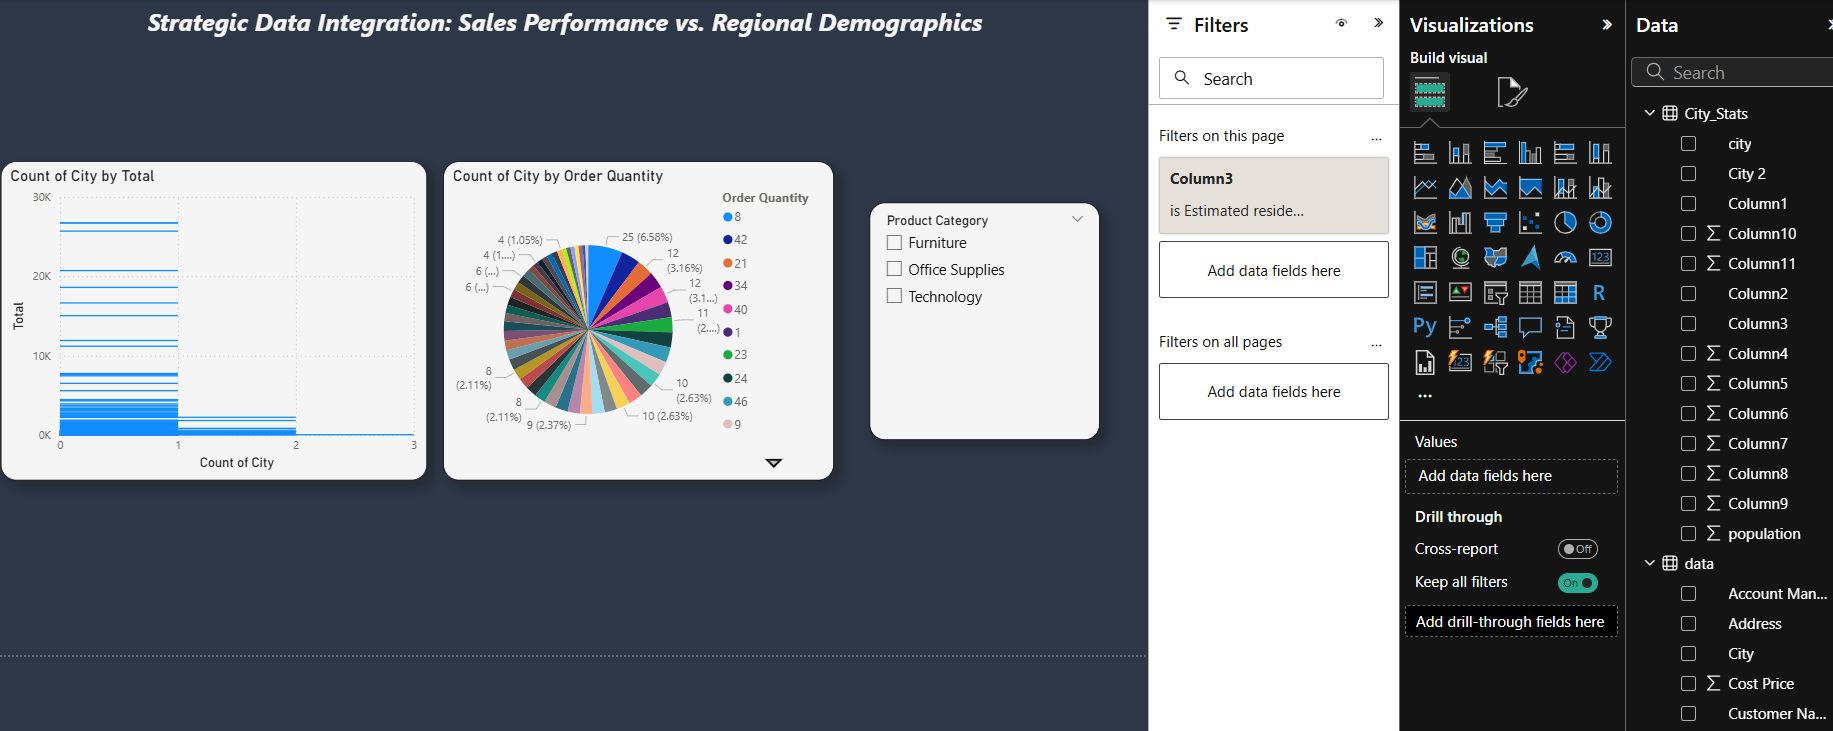

What the dashboard file says about the page in this screenshot:
{"tool":"powerbi","page":{"name":"Page 2","canvas":[1280,720],"ordinal":1},"visuals":[{"type":"textbox","box":[0,0,1280.3,127.6],"z":0},{"type":"barChart","fields":{"Y":["CountNonNull(data.City)"],"Category":["data.Total","City_Stats.population"]},"box":[21.2,177.3,468.2,350],"z":1000},{"type":"slicer","fields":{"Values":["data.Product Category"]},"box":[974.2,222.7,253,260.6],"z":2000},{"type":"pieChart","fields":{"Y":["CountNonNull(data.City)"],"Category":["data.Order Quantity"]},"box":[506.1,177.3,428.8,350],"z":3000}]}

Visuals, with their boxes on the page's 1280x720 design canvas (x1, y1, x2, y2). These are canvas units, not pixel positions in the 1833x731 screenshot, which may show the page scaled, cropped or inside an application window:
textbox: pyautogui.locateOnScreen(0, 0, 1280, 128)
barChart - CountNonNull(data.City) x data.Total: pyautogui.locateOnScreen(21, 177, 489, 527)
slicer - data.Product Category: pyautogui.locateOnScreen(974, 223, 1227, 483)
pieChart - CountNonNull(data.City) x data.Order Quantity: pyautogui.locateOnScreen(506, 177, 935, 527)
